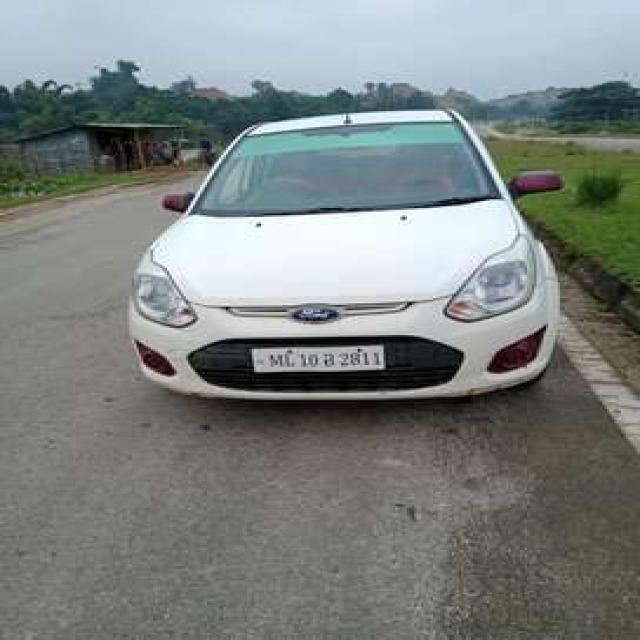plate: (251, 343, 387, 375)
